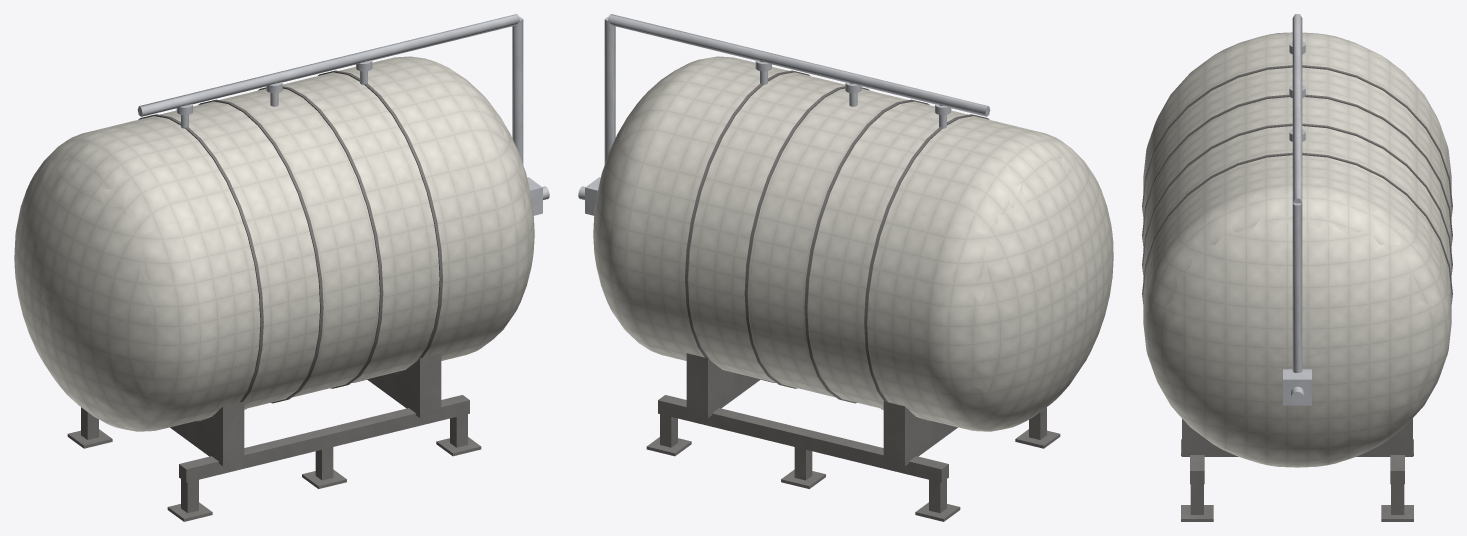
File: tank09_isru_storage.glb
3 renders of one model, left to right at view 1: azimuth 30°, elevation 25°; view 2: azimuth 150°, elevation 25°; view 3: azimuth 270°, elevation 25°, orthographic.
Visible parts, largest first — view 1: vessel, stand, manifold, mli_seams; view 2: vessel, stand, manifold, mli_seams; view 3: vessel, manifold, mli_seams, stand.
Part boxes in pixels (x1,y1,x2,y2): vessel: (14,56,534,431); stand: (67,353,481,521); manifold: (137,14,549,215); mli_seams: (138,70,442,403); vessel: (593,56,1113,431); stand: (646,353,1060,521); manifold: (578,14,990,215); mli_seams: (685,70,989,403); vessel: (1143,32,1451,467); manifold: (1283,14,1311,405); mli_seams: (1142,65,1452,303); stand: (1181,418,1413,521).
Size of the model in its own units: 7.05 by 4.96 by 3.78.
3 materials, 3 textured.
